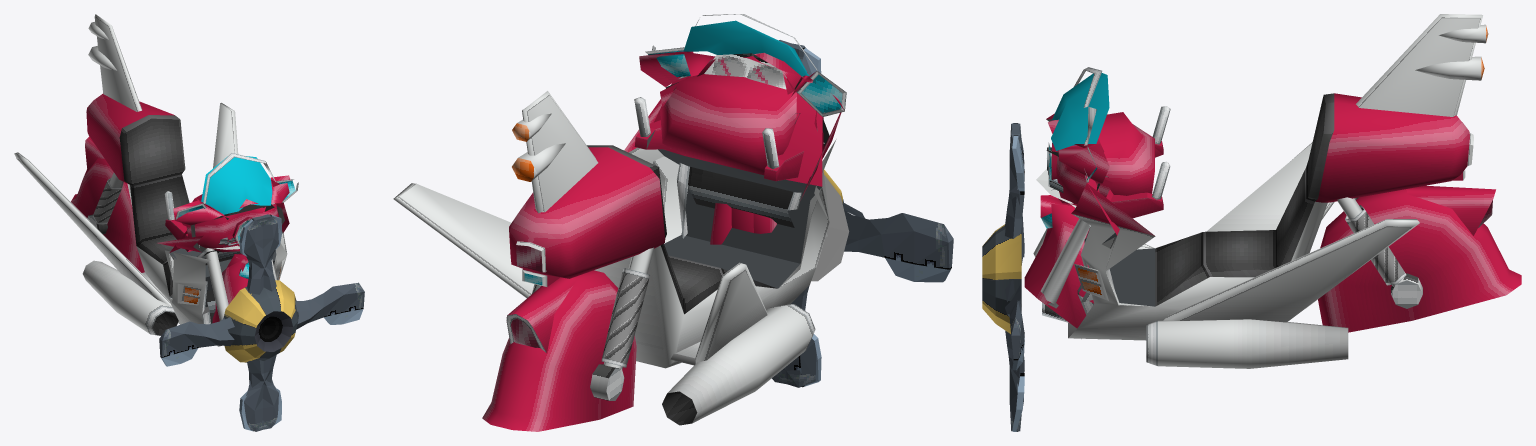
The model's file is racer-geo.glb.
The picture shows the model from 3 angles, left to right: view 1: azimuth 30°, elevation 25°; view 2: azimuth 150°, elevation 25°; view 3: azimuth 270°, elevation 25°; orthographic projection. The views are drawn at different scales.
Visible parts, largest first — view 1: hbike_vShape, racer-geo; view 2: hbike_vShape, racer-geo; view 3: hbike_vShape, racer-geo.
Part boxes in pixels (<box>): hbike_vShape: <box>14,14,298,346</box>; racer-geo: <box>159,214,364,431</box>; hbike_vShape: <box>393,14,846,431</box>; racer-geo: <box>772,40,953,387</box>; hbike_vShape: <box>1024,14,1521,368</box>; racer-geo: <box>982,123,1024,431</box>.
Bounding box in the file's own units: 2.87 × 3.85 × 4.57.
15 materials, 15 textured.
